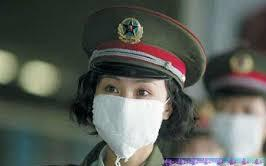OK: (93, 76, 172, 155), (214, 99, 266, 157)
